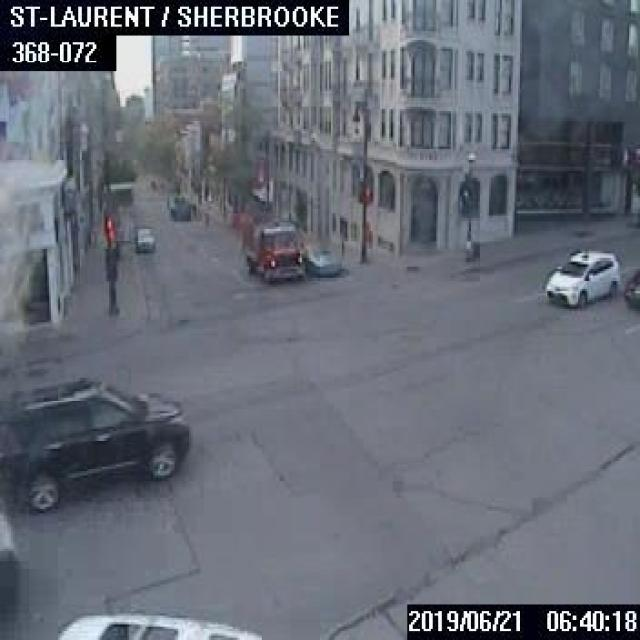vehicle: (0, 373, 185, 511), (54, 609, 262, 638), (544, 247, 618, 302), (244, 220, 303, 278), (0, 512, 18, 630), (304, 245, 340, 274), (622, 269, 638, 309), (133, 224, 154, 249), (168, 194, 189, 218)
